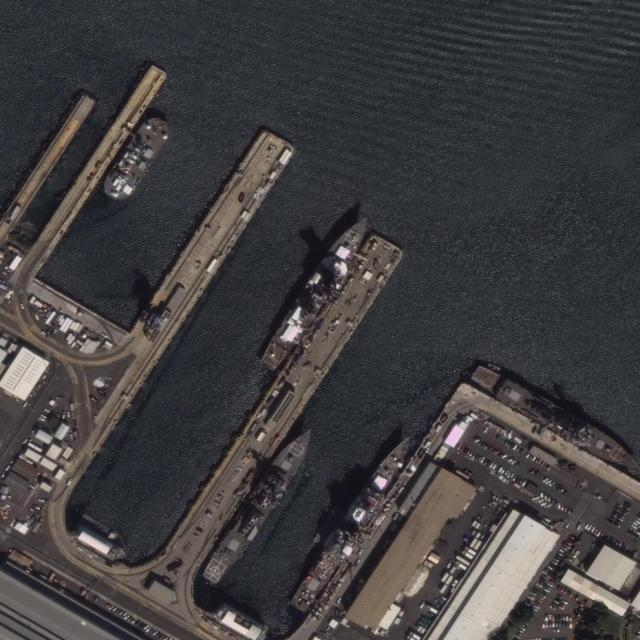Cruiser: (288, 431, 416, 615)
Destroyer: (255, 211, 374, 374)
Dock: (161, 232, 406, 576), (134, 128, 297, 352), (21, 65, 170, 264)
Frigate: (200, 422, 319, 588)
Other Ship: (98, 109, 176, 206)
Other Warship: (467, 359, 637, 473)
